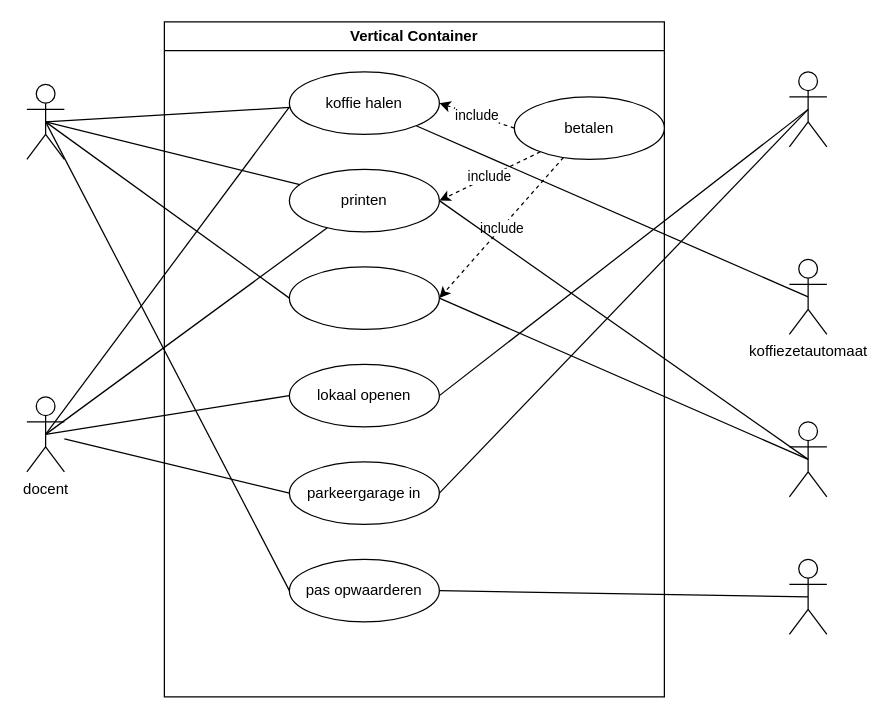
Image size: 889x719. Some labels were removed from this diagram. Each missing label, with the centre of its shape:
app: the point at 807,596
deurlezer: the point at 807,109
kopieren: the point at 363,297
leerling: the point at 45,121
printer: the point at 807,459
